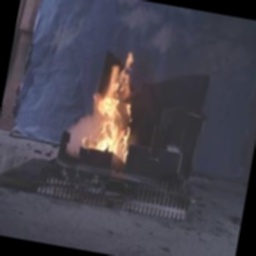fire: (69, 43, 152, 167)
